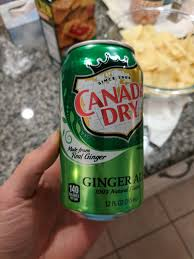Lata: (52, 39, 155, 221)
